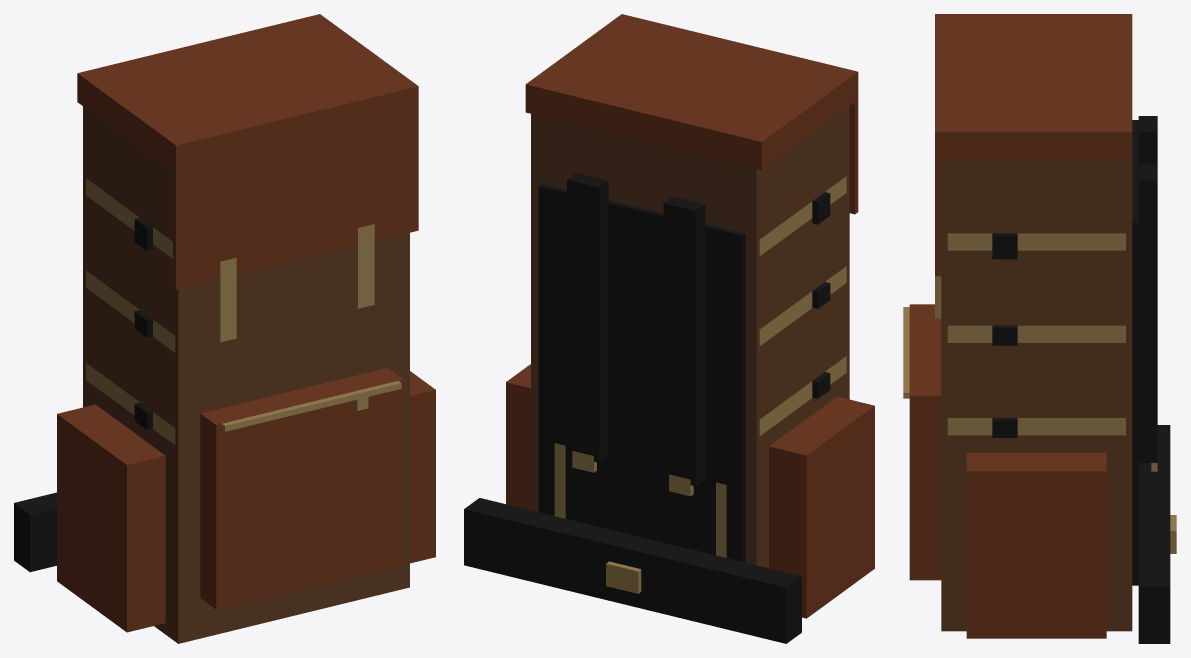
The model's file is bigback.glb.
The picture shows the model from 3 angles, left to right: view 1: azimuth 30°, elevation 25°; view 2: azimuth 150°, elevation 25°; view 3: azimuth 270°, elevation 25°; orthographic projection. The views are drawn at different scales.
Visible parts, largest first — view 1: bigback:compound; view 2: bigback:compound; view 3: bigback:compound.
Boxes of the visible parts, left/top/right/bottom form: bigback:compound: left=14, top=14, right=435, bottom=643; bigback:compound: left=464, top=14, right=874, bottom=643; bigback:compound: left=903, top=14, right=1176, bottom=643.
Size of the model in its own units: 0.6 by 0.87 by 0.43.
